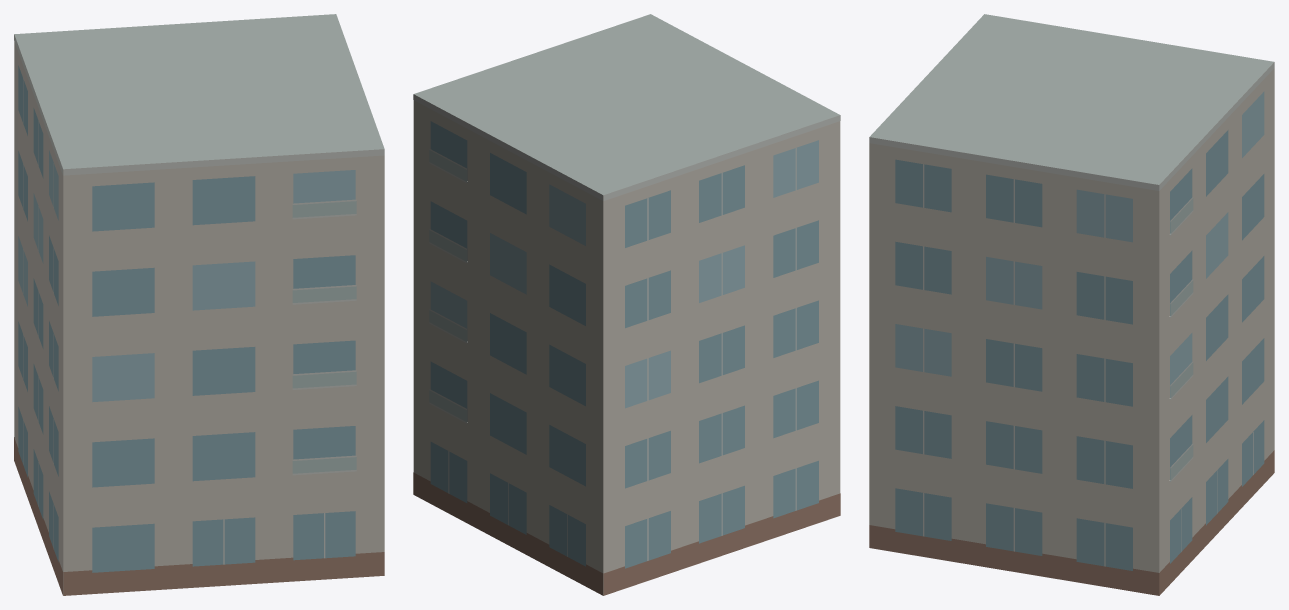
Rendered from survey-upis-32830253.glb.
The picture shows the model from 3 angles, left to right: view 1: azimuth 30°, elevation 25°; view 2: azimuth 150°, elevation 25°; view 3: azimuth 270°, elevation 25°; orthographic projection. The views are drawn at different scales.
Visible parts, largest first — view 1: survey-upis-32830253.tmp; view 2: survey-upis-32830253.tmp; view 3: survey-upis-32830253.tmp.
Boxes of the visible parts, <box> form: survey-upis-32830253.tmp: <box>14,14,384,595</box>; survey-upis-32830253.tmp: <box>413,14,840,595</box>; survey-upis-32830253.tmp: <box>869,14,1274,595</box>.
Size of the model in its own units: 14.69 by 16.45 by 14.72.
